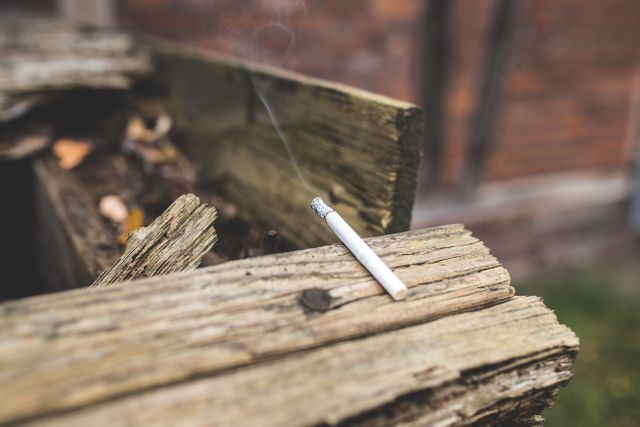cigarette: (307, 191, 410, 303)
